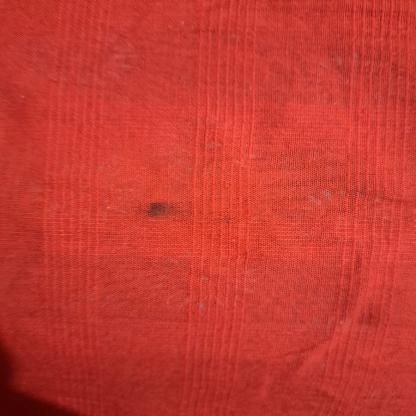spot: (134, 198, 209, 219)
